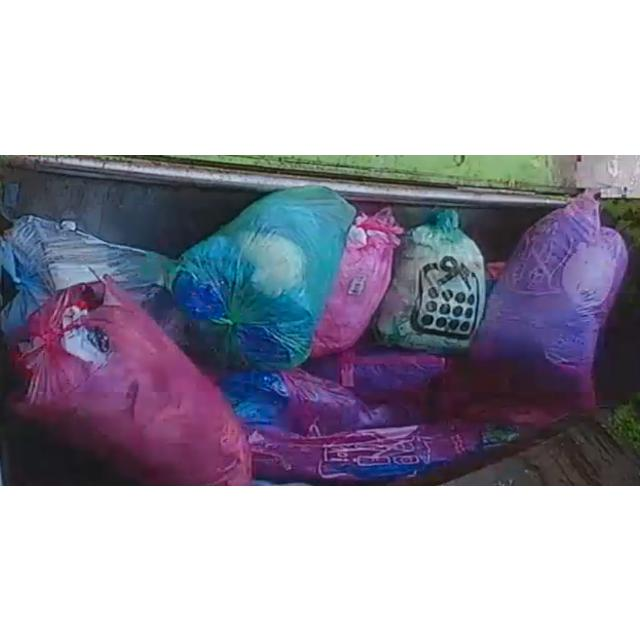general_trashbag: (172, 186, 356, 370), (376, 209, 485, 349)
other_trashbag: (15, 278, 251, 484), (472, 189, 628, 391), (0, 214, 176, 334), (311, 206, 404, 356), (302, 348, 445, 392)
